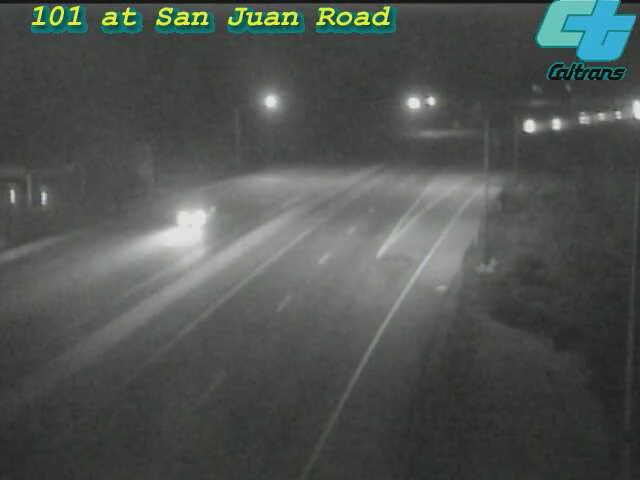vehicle: (155, 180, 235, 260), (577, 92, 627, 142), (559, 93, 609, 143), (533, 99, 583, 149), (504, 101, 554, 151), (593, 91, 640, 141), (612, 84, 640, 134)
